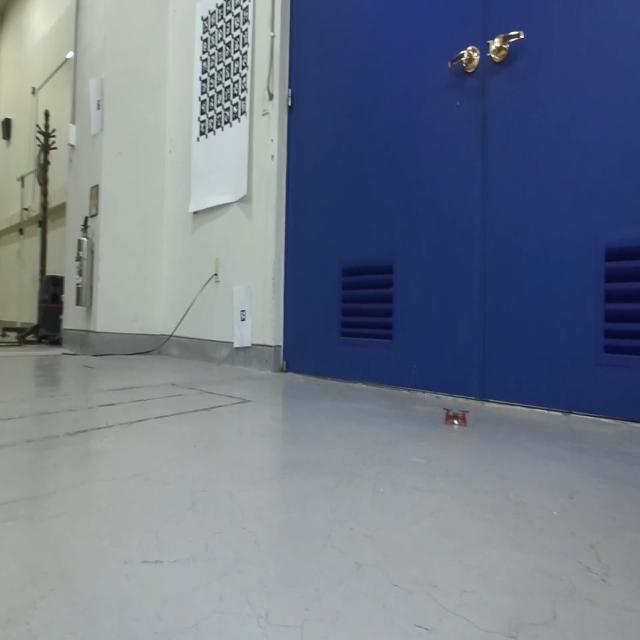crazyflie: (439, 402, 471, 430)
